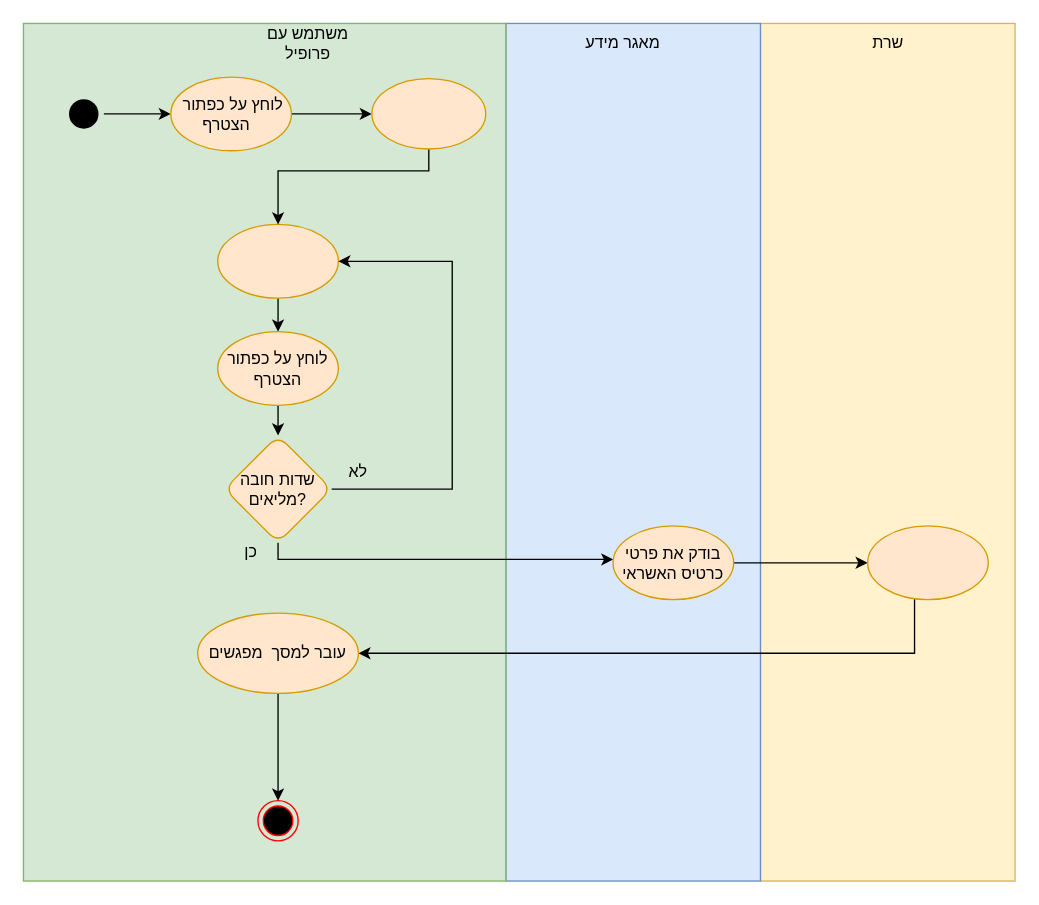
This 1039x905 diagram has some shape labels left out. Each missing label, with the centre of its shape:
"מוסיף את מפגש לאירועים שלי" goes at [927,562].
"ממלא את שדות החובה" goes at [277,260].
"עובר לדף הצטרפות" goes at [428,113].
